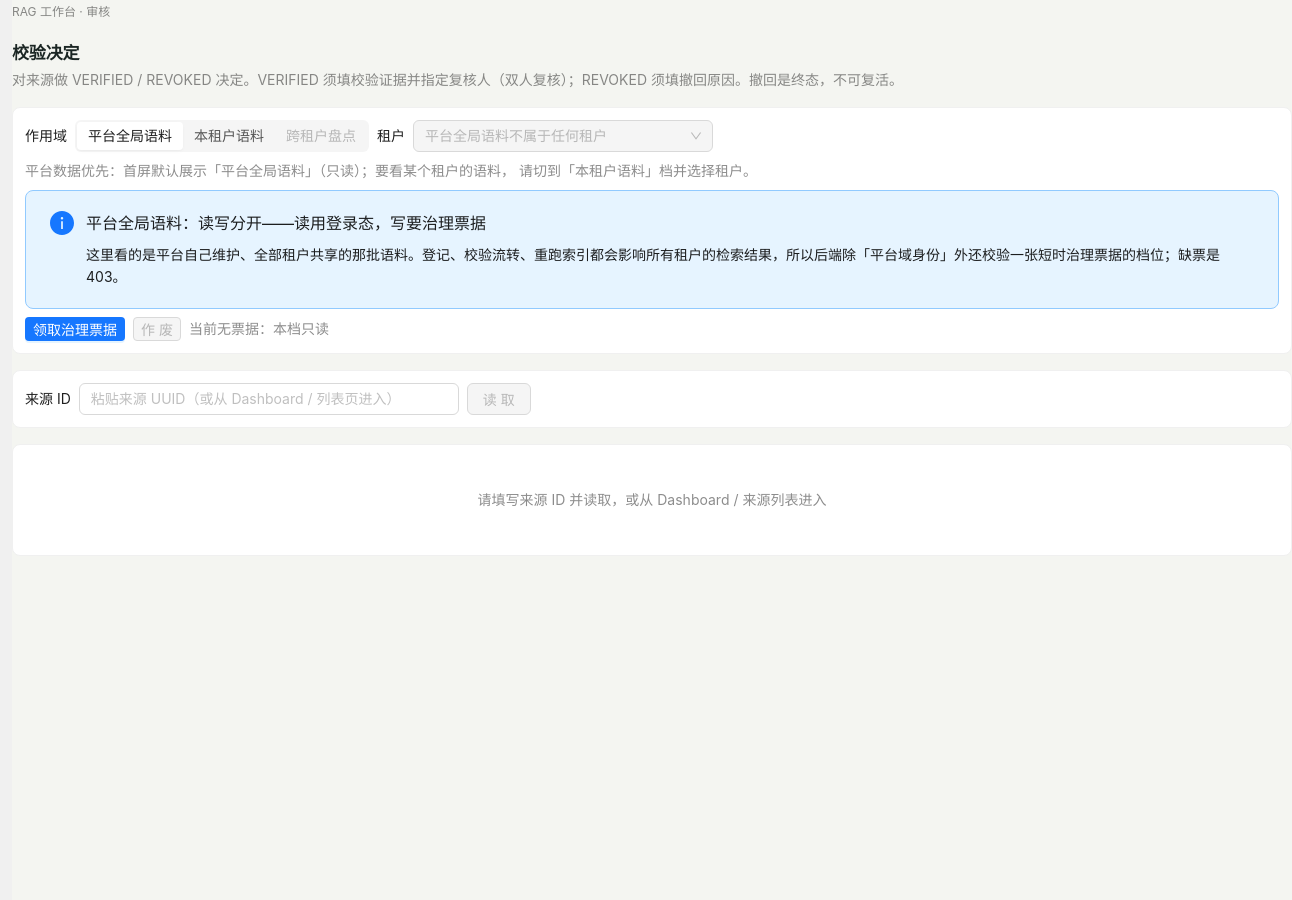
Test: 校验决定页输入守卫 › partial UUID 不发后端请求；完整 UUID 防抖后只读取一次
The image size is (1292, 900).
Type "7" into the field with placeholder "粘贴来源 UUID（或从 Dashboard / 列表页进入）" at (269, 399), box x1=79 y1=383 x2=459 y2=415
Wait 500 ms
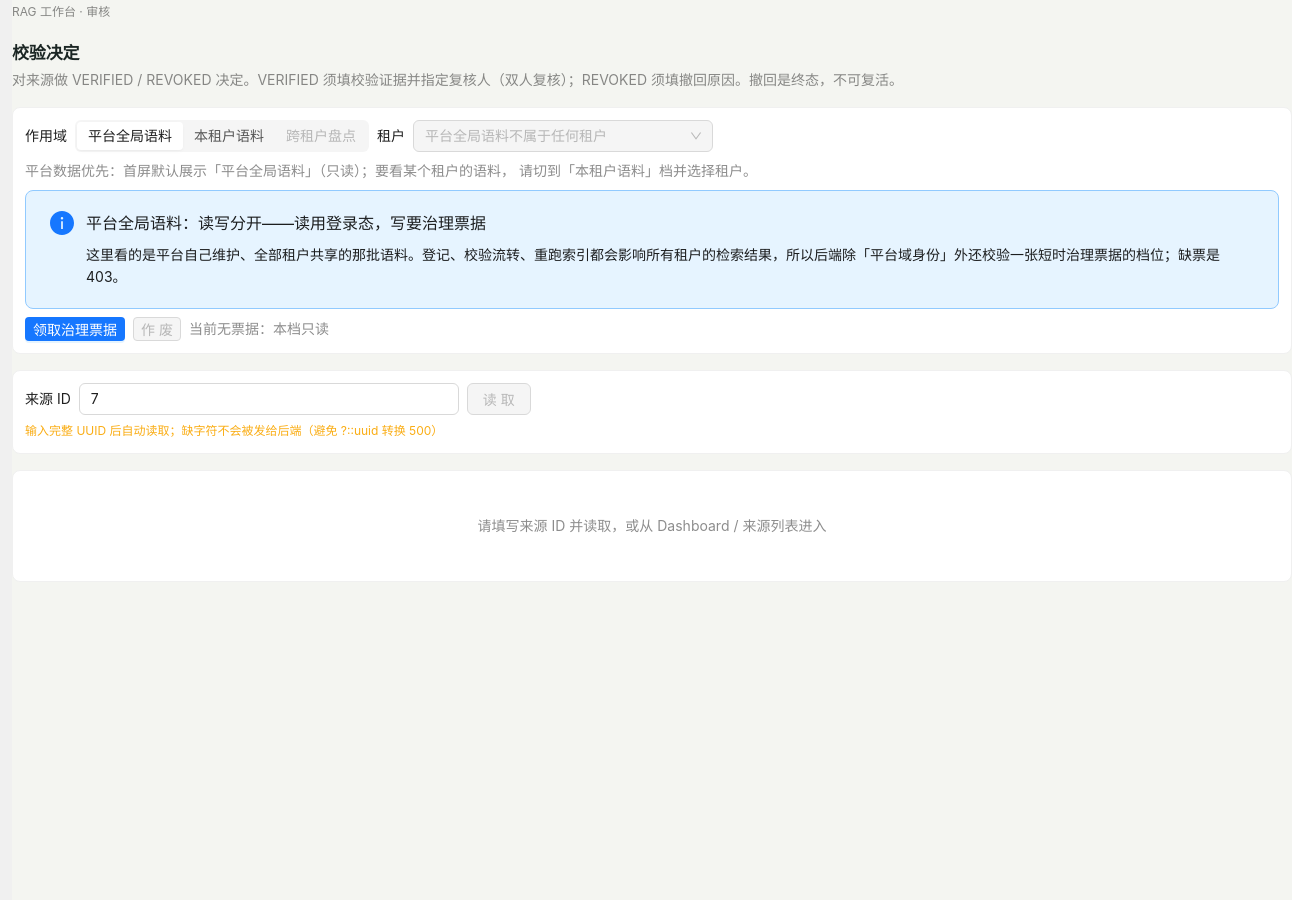
Expected: the button "读 取" is disabled, x1=467 y1=383 x2=531 y2=415
Replace the text in the field with placeholder "粘贴来源 UUID（或从 Dashboard / 列表页进入）" with "76d15916" at (269, 399), box x1=79 y1=383 x2=459 y2=415
Wait 500 ms
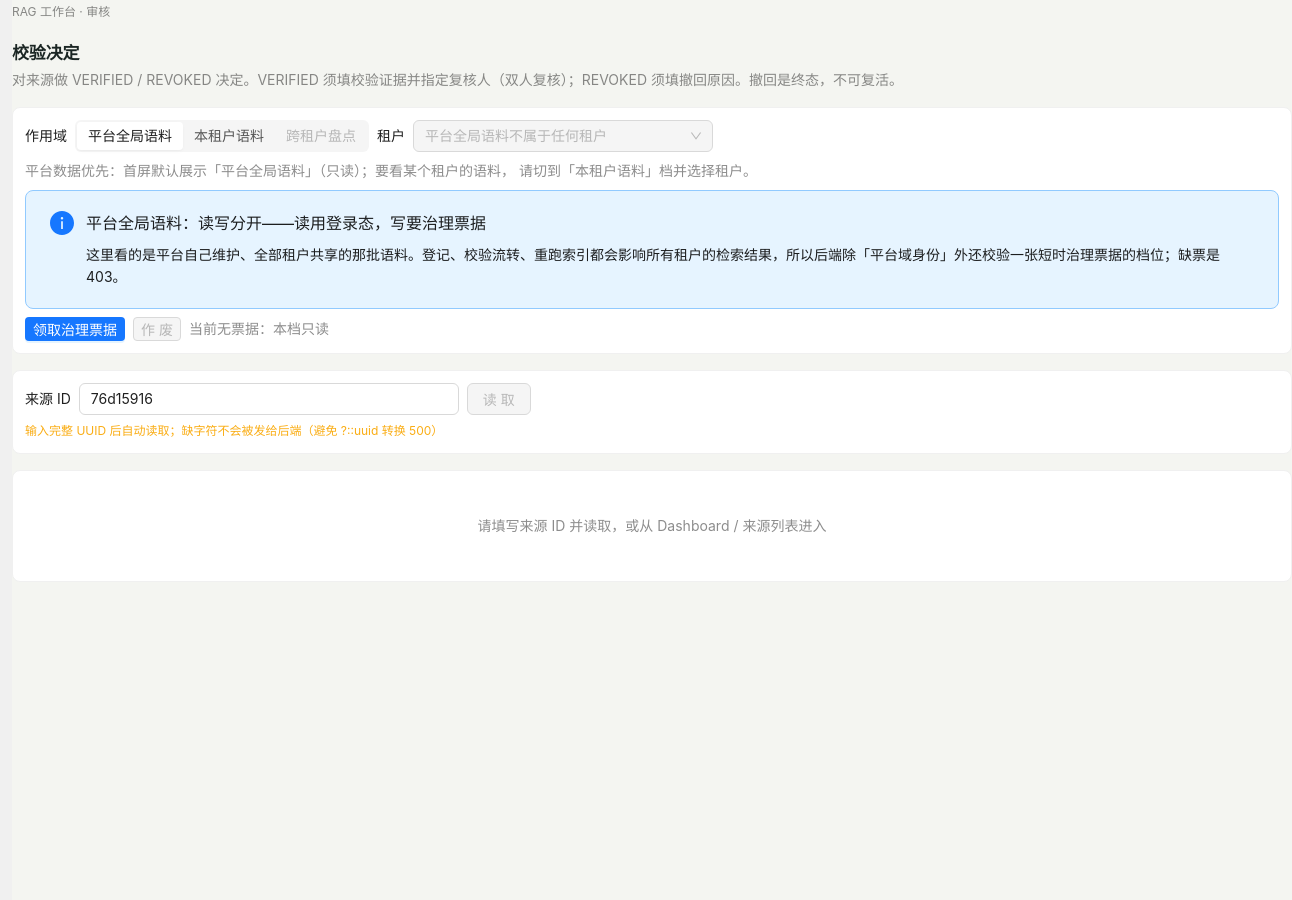
Expected: the button "读 取" is disabled, x1=467 y1=383 x2=531 y2=415
Replace the text in the field with placeholder "粘贴来源 UUID（或从 Dashboard / 列表页进入）" with "76d15916-7d33" at (269, 399), box x1=79 y1=383 x2=459 y2=415
Wait 500 ms
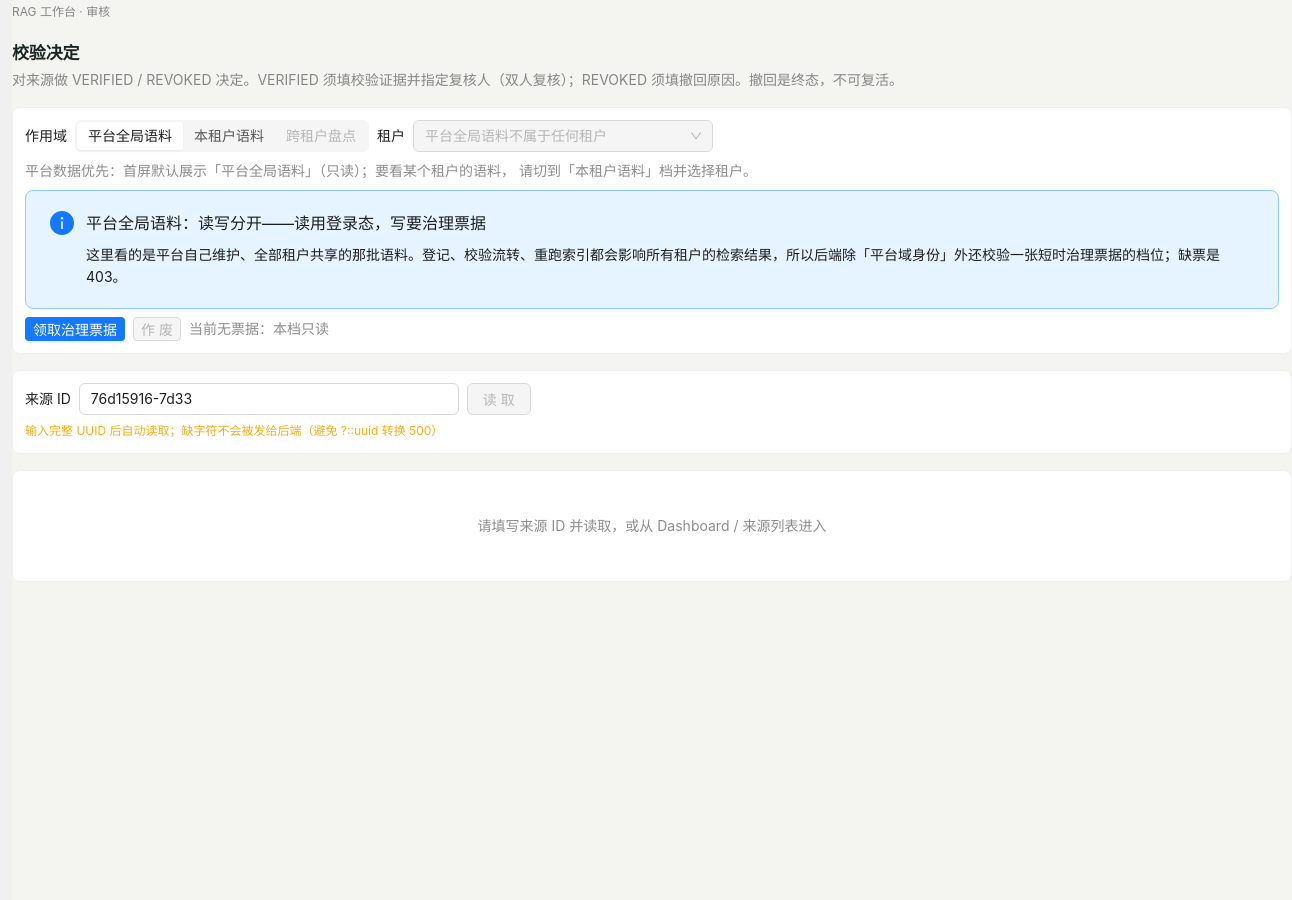
Expected: the button "读 取" is disabled, x1=467 y1=383 x2=531 y2=415
Replace the text in the field with placeholder "粘贴来源 UUID（或从 Dashboard / 列表页进入）" with "76d15916-7d33-4474-a1e1-f94c77c0600" at (269, 399), box x1=79 y1=383 x2=459 y2=415
Wait 500 ms
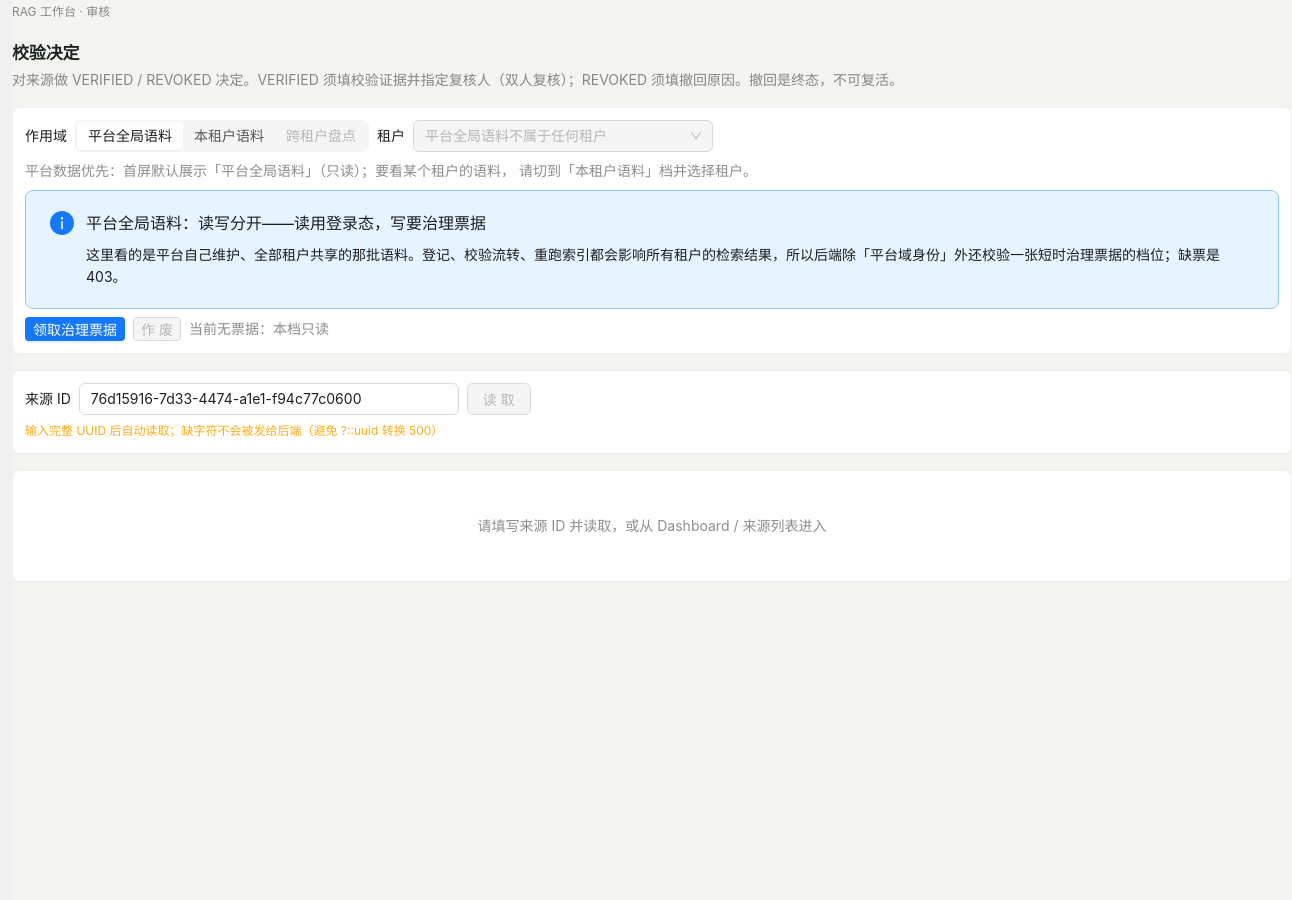
Expected: the button "读 取" is disabled, x1=467 y1=383 x2=531 y2=415
Replace the text in the field with placeholder "粘贴来源 UUID（或从 Dashboard / 列表页进入）" with "76d15916-7d33-4474-a1e1-f94c77c06001" at (269, 399), box x1=79 y1=383 x2=459 y2=415
Wait 300 ms
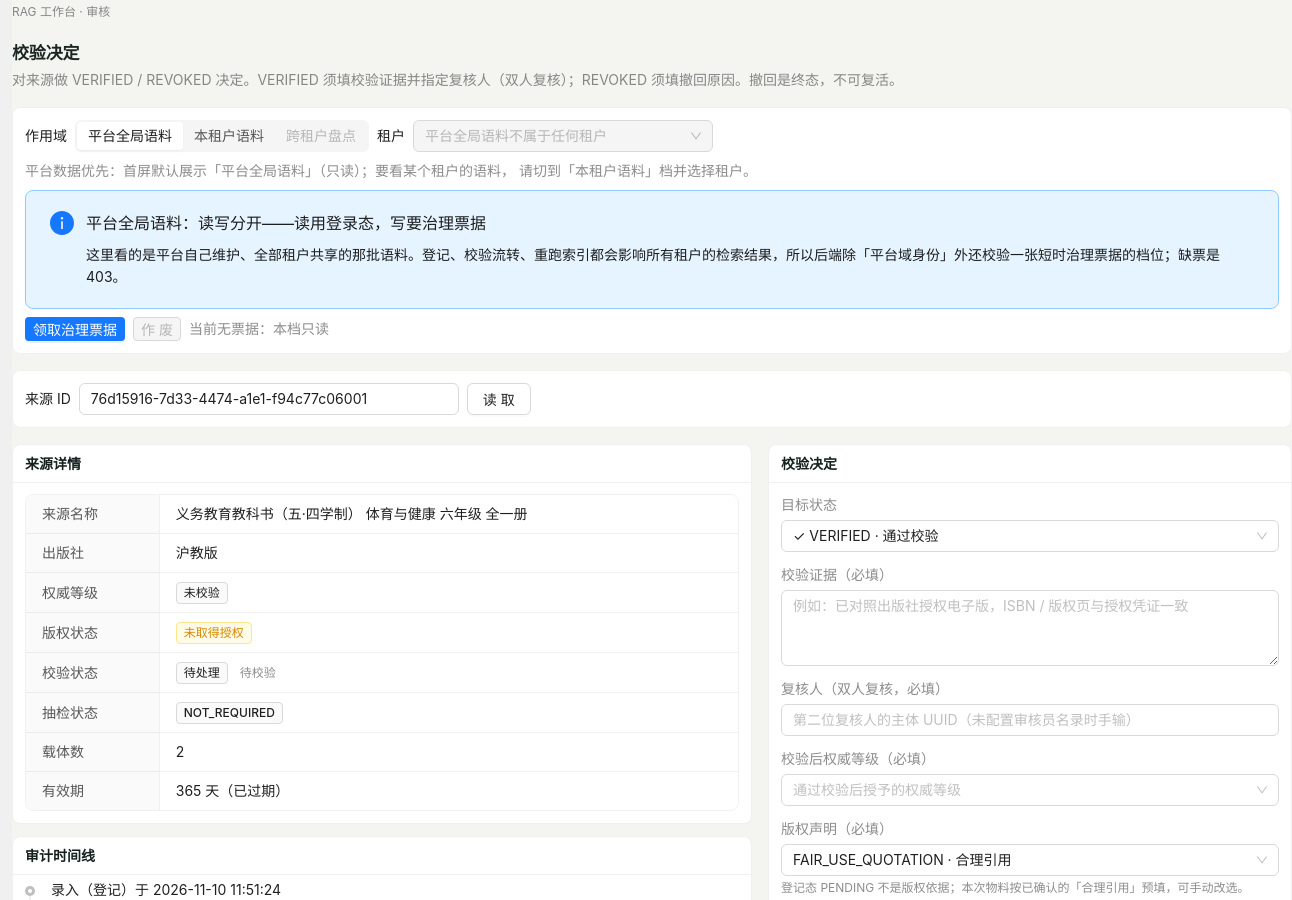
Now the button "读 取" is enabled, box x1=467 y1=383 x2=531 y2=415
